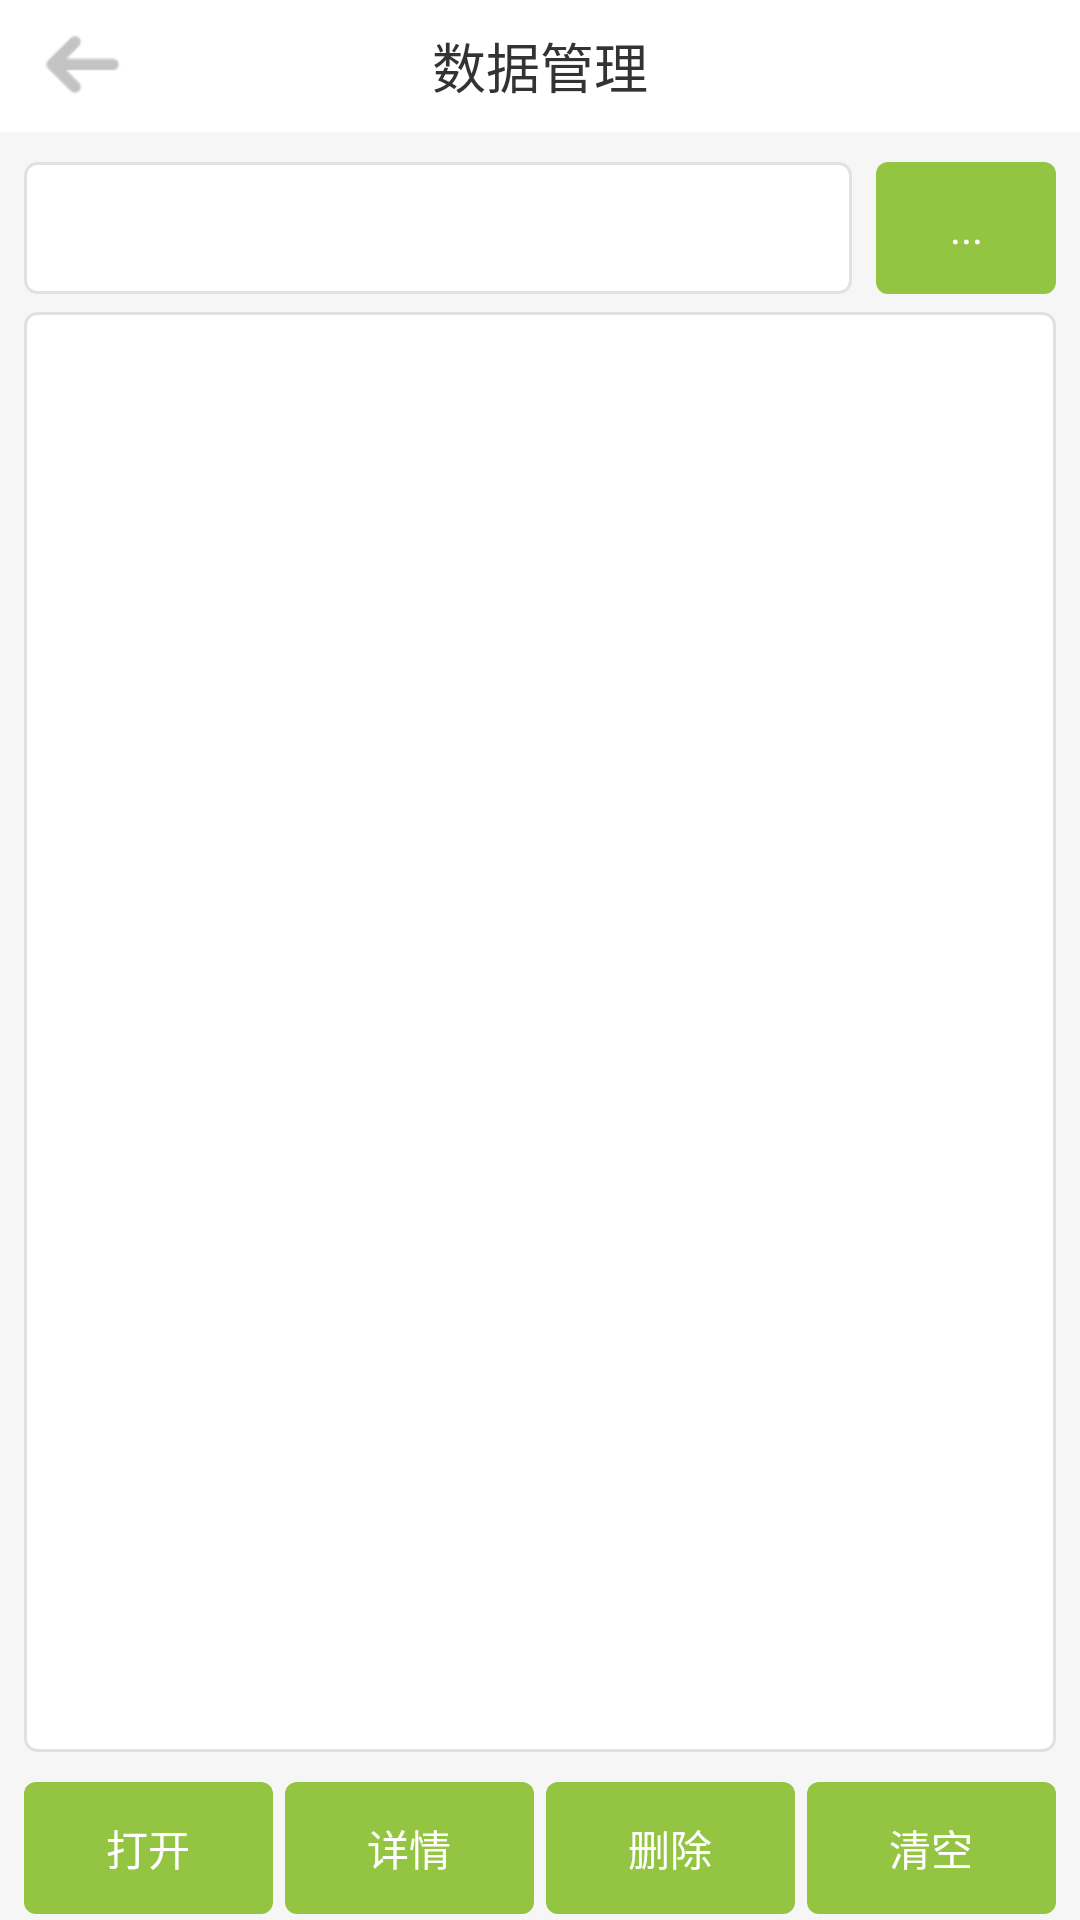

Icon bounding boxes for this 1080*1920 phone screenshot, format (x1, y1, x2, y2):
back: (46, 36, 119, 93)
